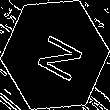N_NW: (27, 26, 83, 84)
